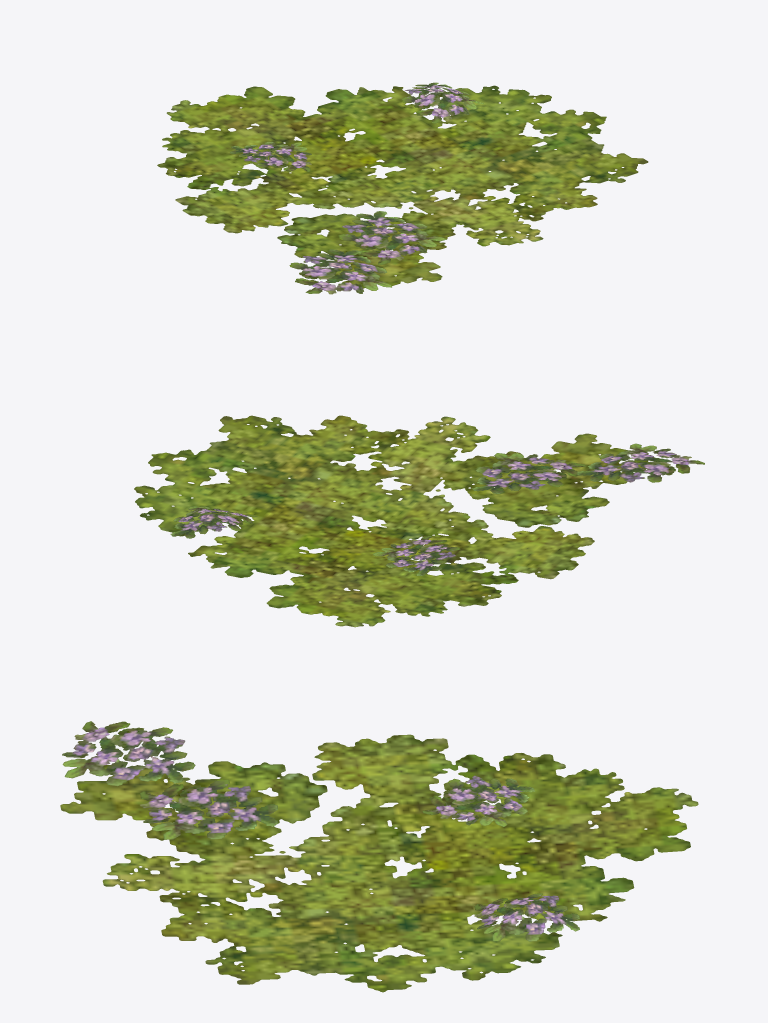
Rendered from OZ_02_wv_grass03B.glb.
The picture shows the model from 3 angles, top to bottom: view 1: azimuth 30°, elevation 25°; view 2: azimuth 150°, elevation 25°; view 3: azimuth 270°, elevation 25°; orthographic projection. The views are drawn at different scales.
Parts seen in each view (by area): view 1: OM_02_wv_grass03B; view 2: OM_02_wv_grass03B; view 3: OM_02_wv_grass03B.
Boxes of the visible parts, x1,y1,x2,y2 form: OM_02_wv_grass03B: (157, 82, 648, 294); OM_02_wv_grass03B: (134, 415, 704, 627); OM_02_wv_grass03B: (60, 721, 698, 992).
Bounding box in the file's own units: 2.22 × 0.0856 × 2.22.
1 material, 1 textured.
